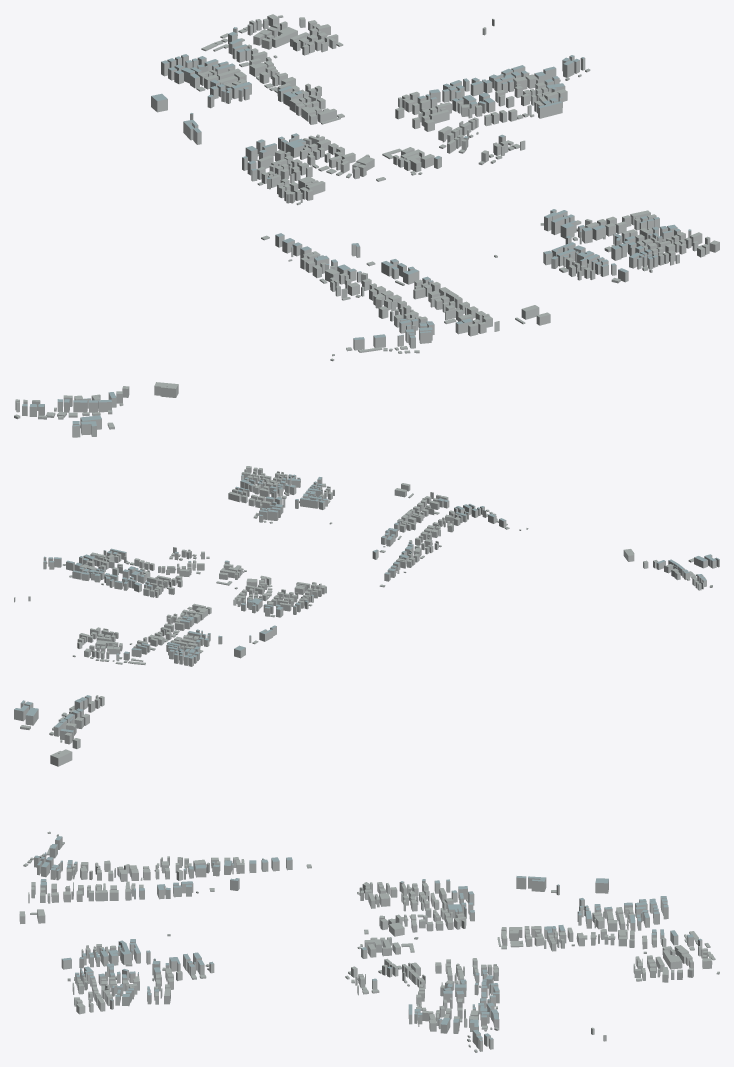
The model's file is far.glb.
The picture shows the model from 3 angles, top to bottom: view 1: azimuth 30°, elevation 25°; view 2: azimuth 150°, elevation 25°; view 3: azimuth 270°, elevation 25°; orthographic projection. The views are drawn at different scales.
Bounding box in the file's own units: 1534 × 24.6 × 1298.
